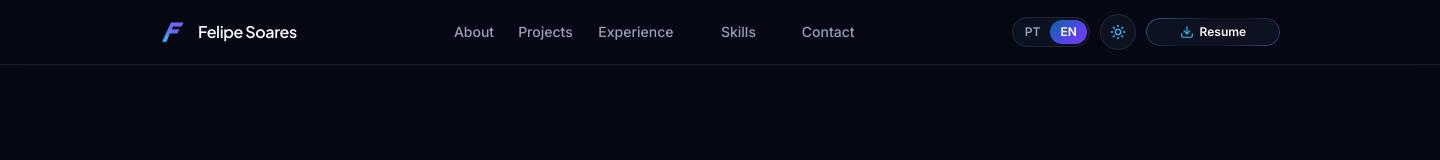
Test: Header & SkipLink › keeps constant width sizers on nav links and header CTAs across locales without leaking hidden text
Expected: the link "Skills" is shown, x1=699 y1=22 x2=778 y2=42
Expected: the link "Resume" is shown, x1=1146 y1=18 x2=1280 y2=46
Click the button "PT".
click(1033, 32)  # box x1=1015 y1=20 x2=1050 y2=44
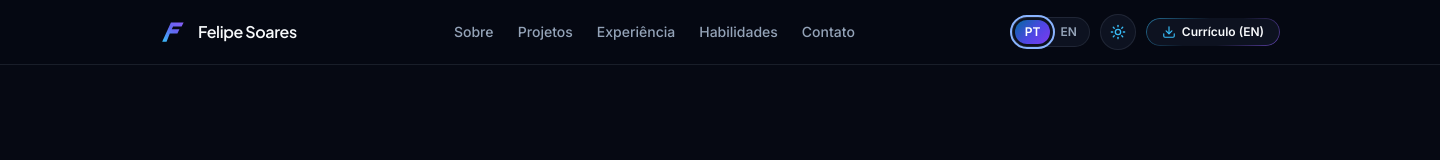
Expected: the link "Habilidades" is shown, x1=699 y1=22 x2=778 y2=42
Expected: the link "Currículo (EN)" is shown, x1=1146 y1=18 x2=1280 y2=46
